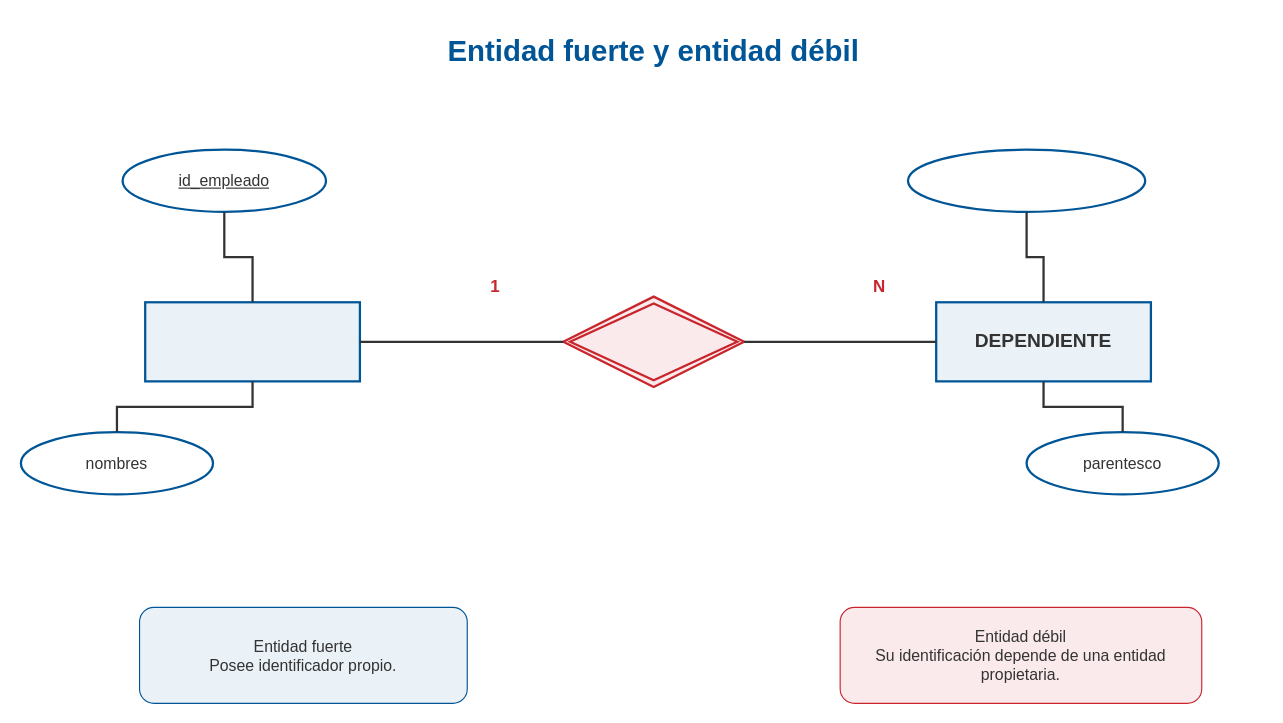
Image size: 1283x723. Some labels were removed from this diagram. Each missing label, with the box of its shape:
EMPLEADO: (144, 301, 360, 382)
nombre_dependiente: (906, 148, 1146, 212)
TIENE: (562, 295, 745, 388)
